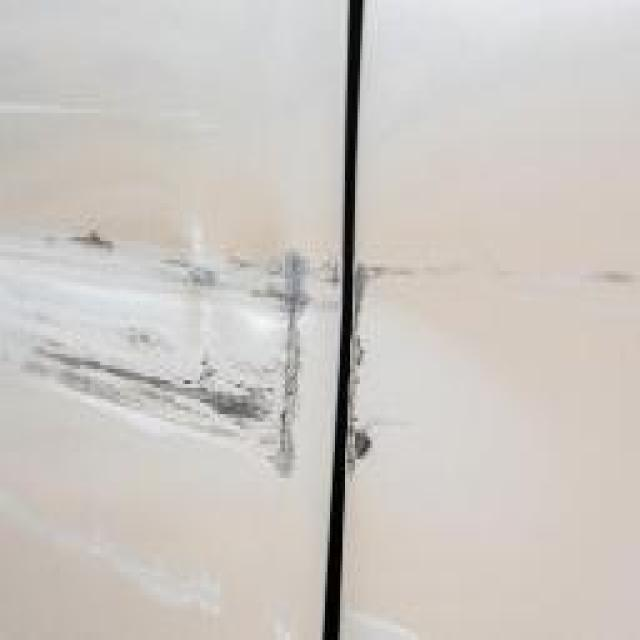Door: (2, 87, 420, 632)
